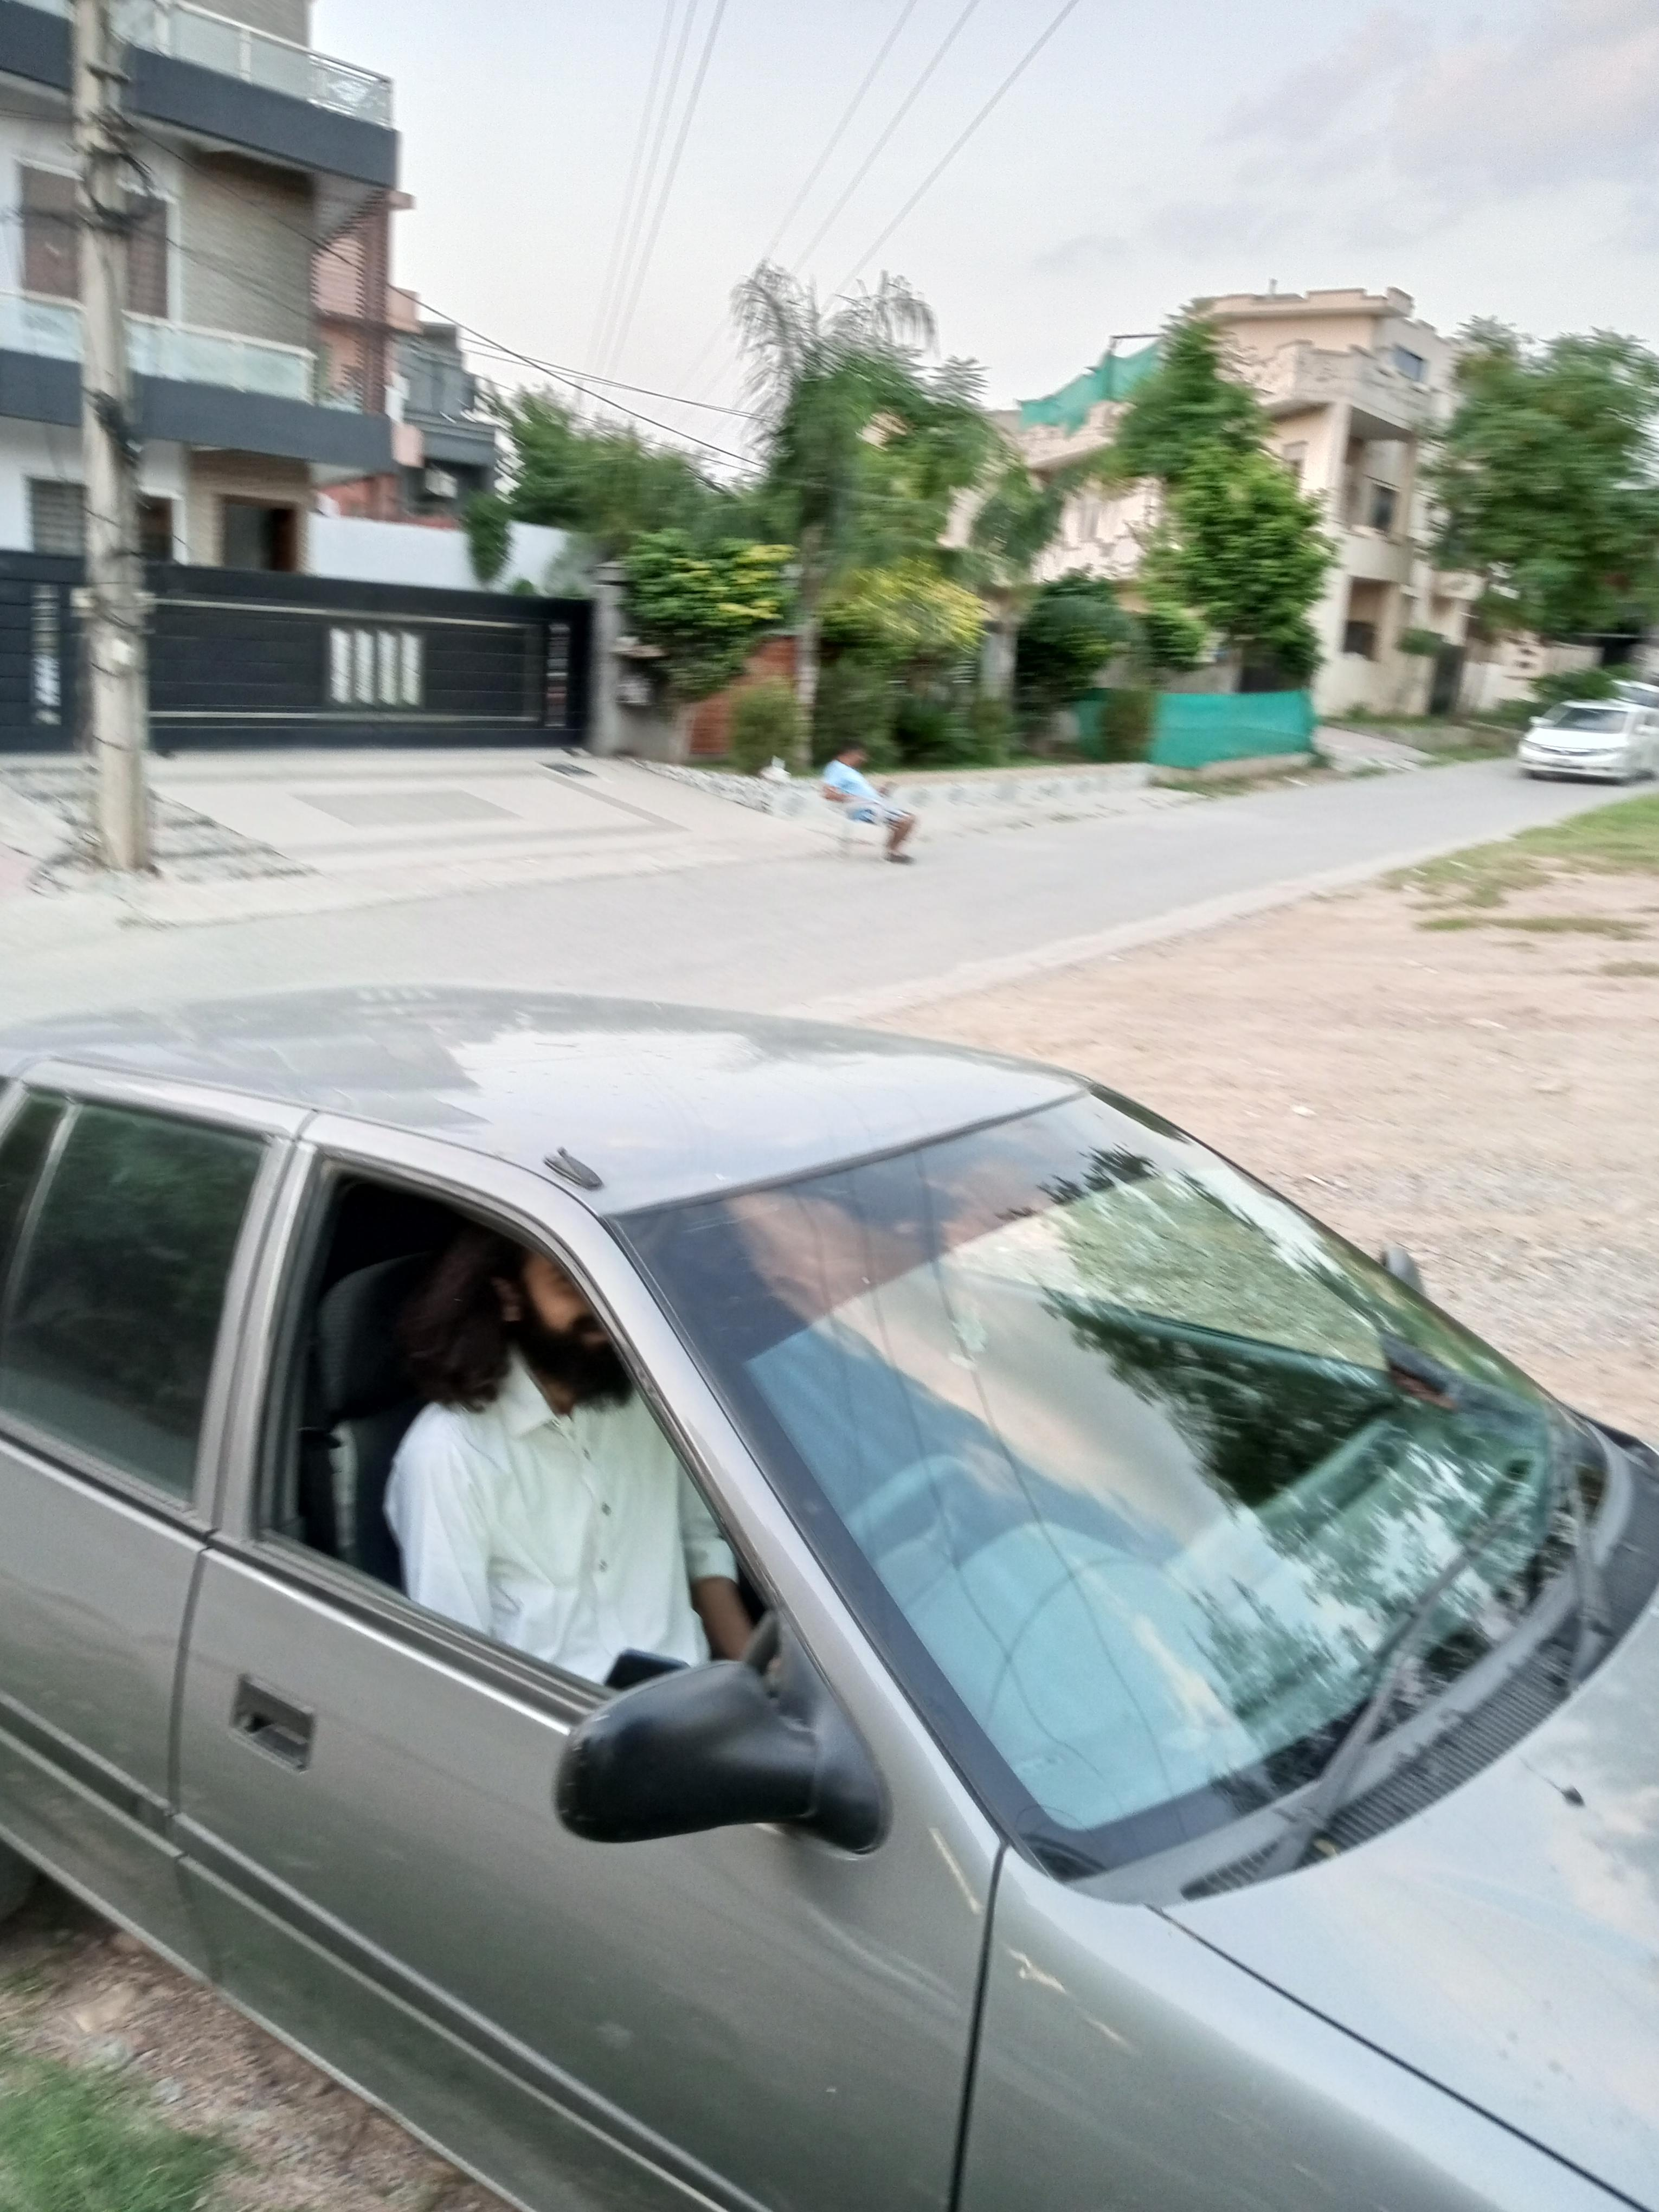windshield: (619, 1068, 1617, 1892)
